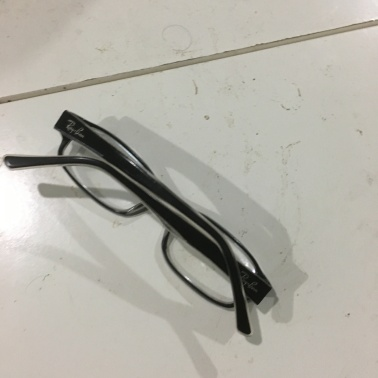glasses: (32, 115, 284, 314)
